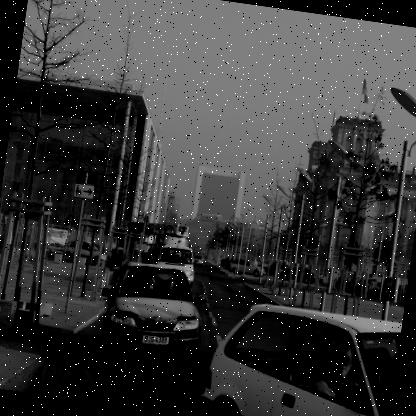Car: (197, 296, 402, 415), (92, 258, 210, 376), (218, 254, 408, 304), (62, 239, 103, 266)
